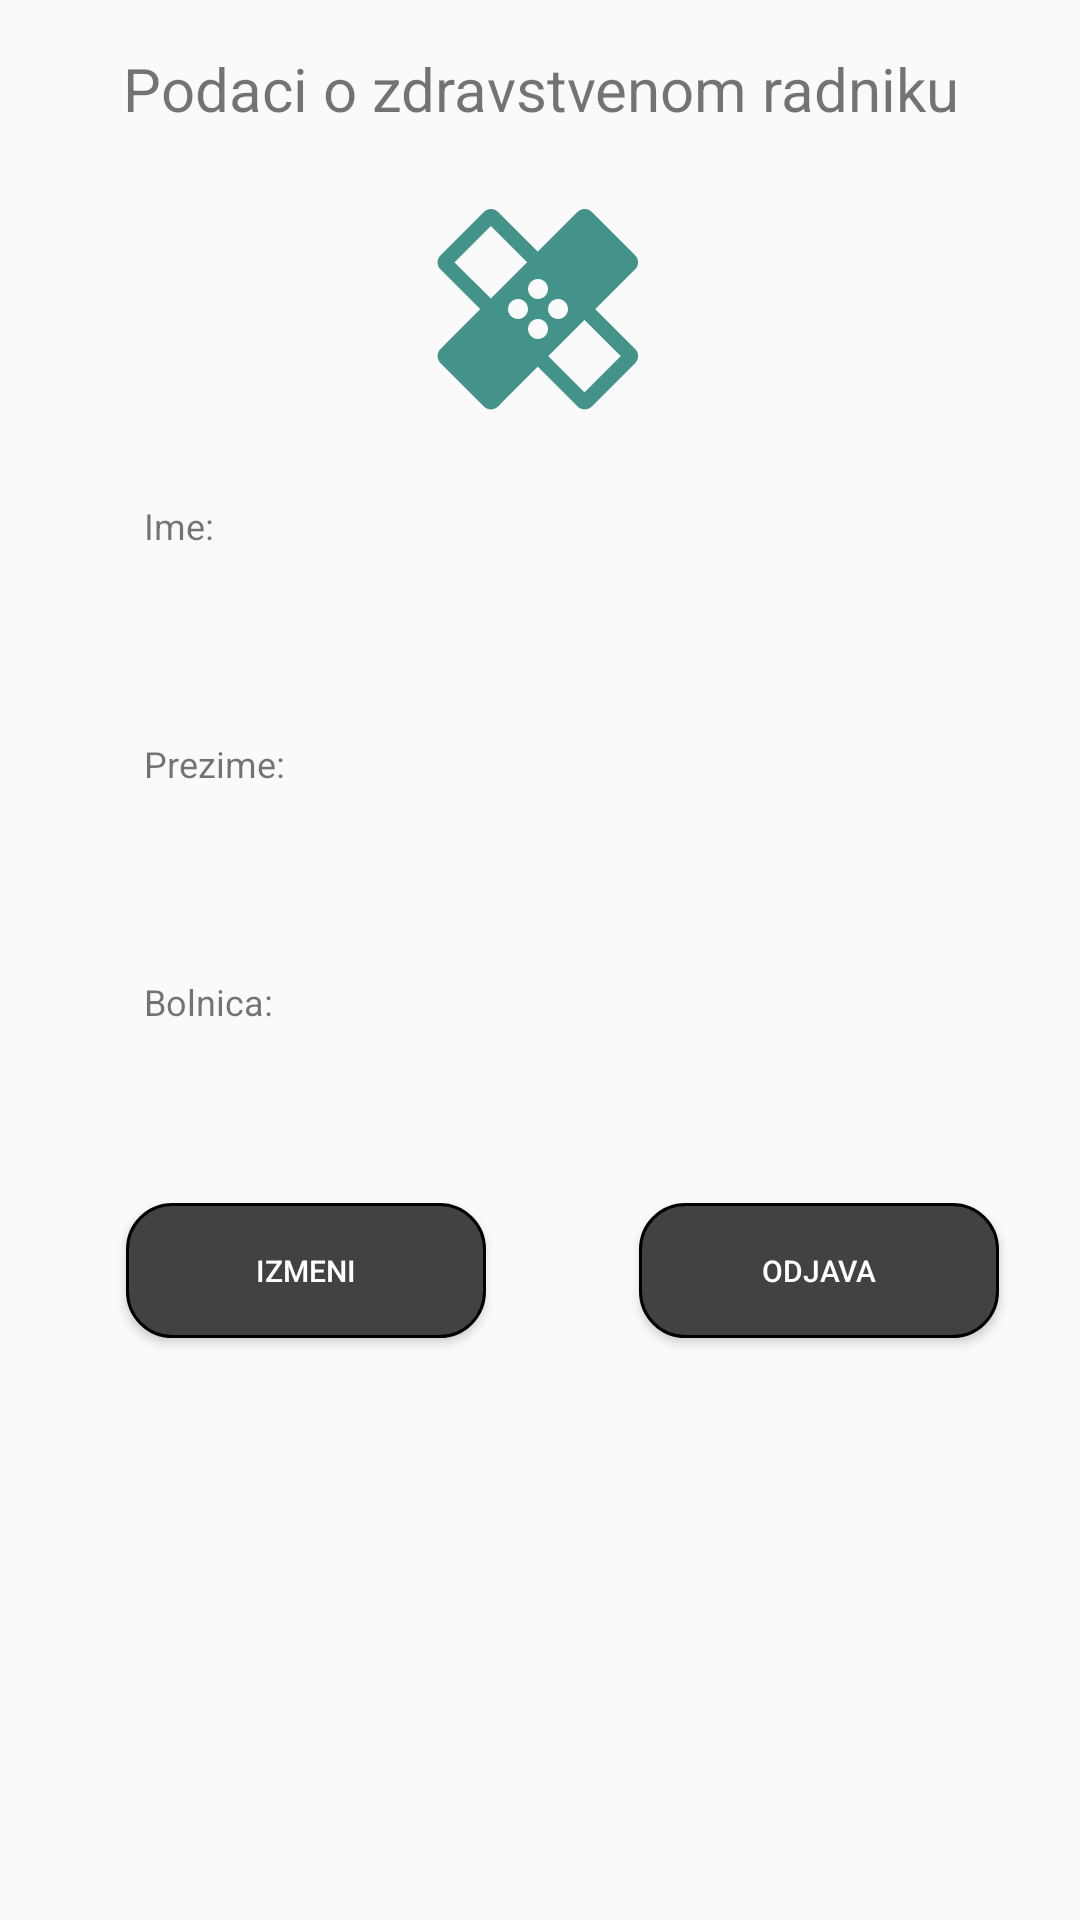

Where icons sit on this 1080px×1920px app screen, as (x1, y1, x2, y2):
healing: (437, 209, 638, 410)
